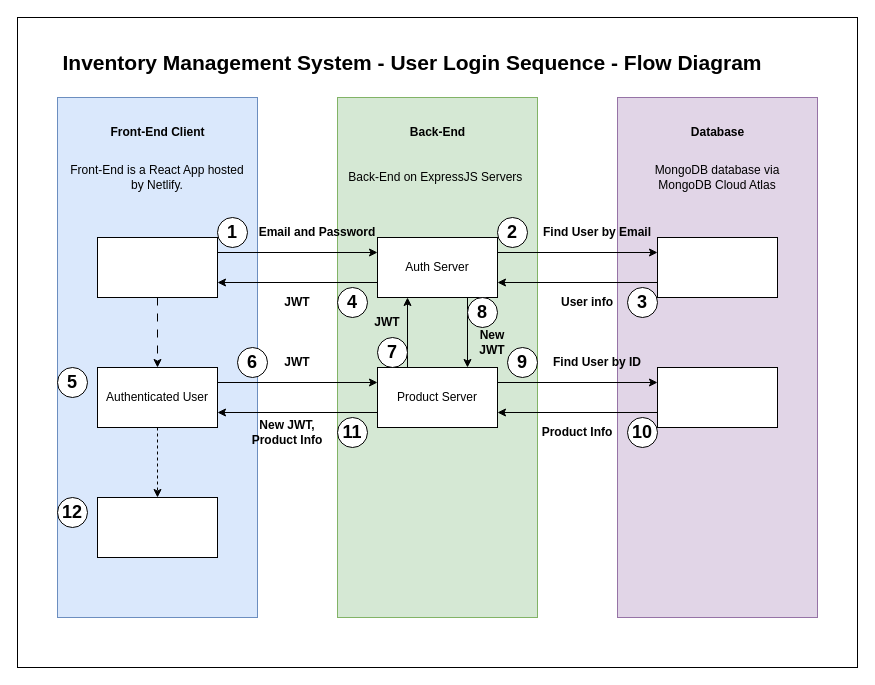
The diagram is 875 pixels wide and 685 high, and some of its shapes have lost their labels. The box of each missing label's shape, as (x1, y1, x2, y2) in pixels:
Auth Database: (656, 236, 778, 298)
Authenticated User with Products: (96, 496, 218, 558)
Product Database: (656, 366, 778, 428)
Unauthenticated User: (96, 236, 218, 298)
